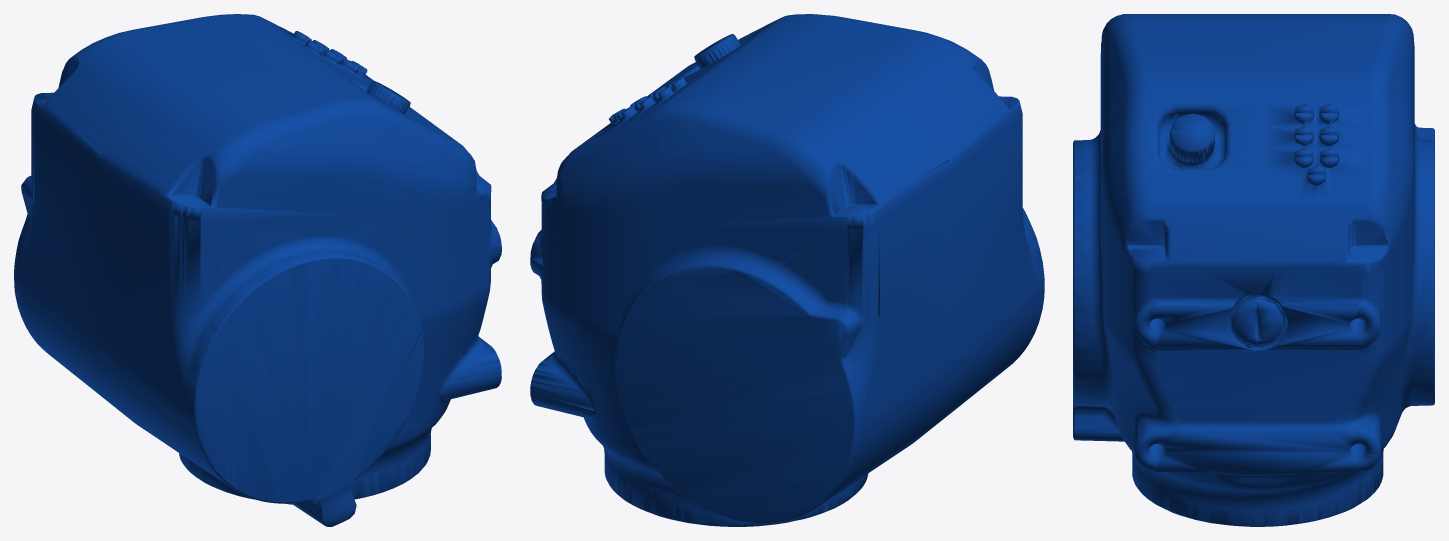
Rendered from YaskawaGP7Link3.dae.
3 views of the same model, side by side, from view 1: azimuth 30°, elevation 25°; view 2: azimuth 150°, elevation 25°; view 3: azimuth 270°, elevation 25° (orthographic). The views are drawn at different scales.
Visible parts, largest first — view 1: YaskawaGP7Link3; view 2: YaskawaGP7Link3; view 3: YaskawaGP7Link3.
Part boxes in pixels (<box>): YaskawaGP7Link3: <box>14,14,501,526</box>; YaskawaGP7Link3: <box>530,14,1044,526</box>; YaskawaGP7Link3: <box>1073,14,1434,526</box>.
Bounding box in the file's own units: 0.1579 × 0.144 × 0.175.
